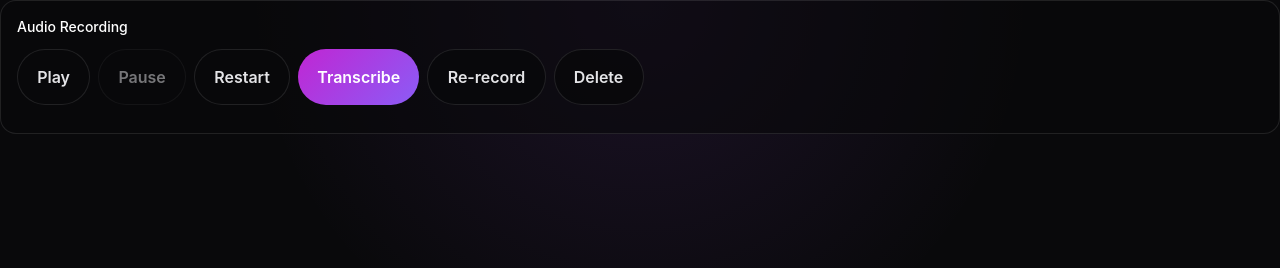
Test case: AudioRecorder › Delete button removes recording and disables Transcribe
Click the button "Delete". click: (598, 77)
box: [554,49,644,105]
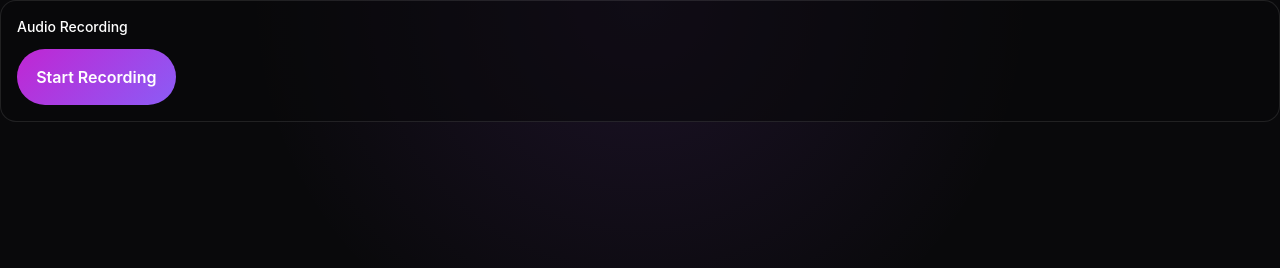
Result: the button "Transcribe" is gone
